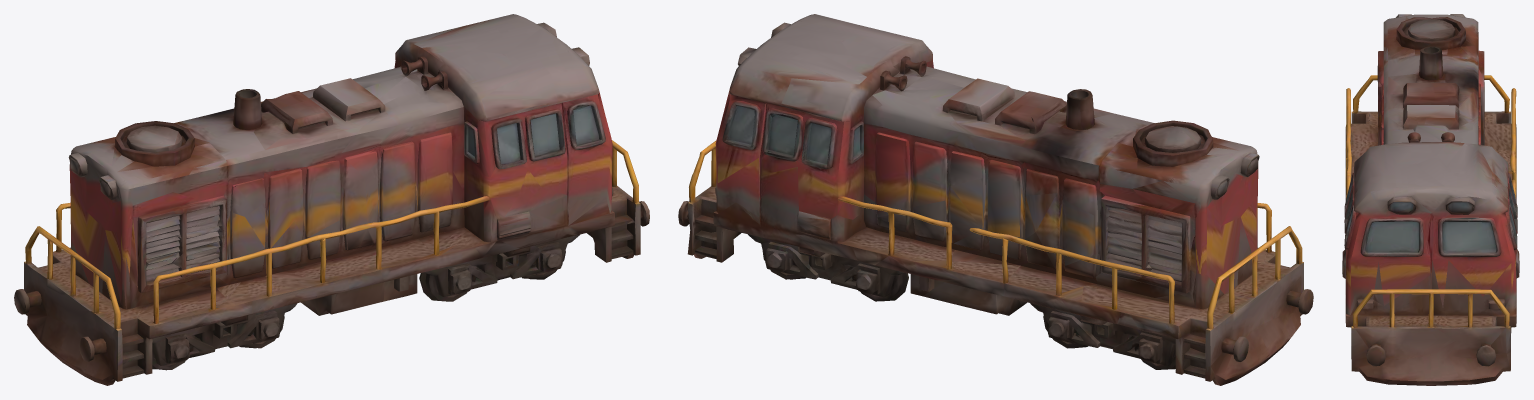
Rendered from train_loco_diesel.glb.
3 renders of one model, left to right at view 1: azimuth 30°, elevation 25°; view 2: azimuth 150°, elevation 25°; view 3: azimuth 270°, elevation 25°, orthographic. The views are drawn at different scales.
Visible parts, largest first — view 1: body, wheel_5; view 2: body, wheel_6; view 3: body.
Part boxes in pixels (bbox=[...]): body: bbox=[14, 14, 649, 385]; wheel_5: bbox=[419, 265, 481, 301]; body: bbox=[678, 14, 1313, 385]; wheel_6: bbox=[846, 265, 908, 301]; body: bbox=[1342, 14, 1519, 385].
Size of the model in its own units: 7 by 2.82 by 2.26.
2 materials, 2 textured.
